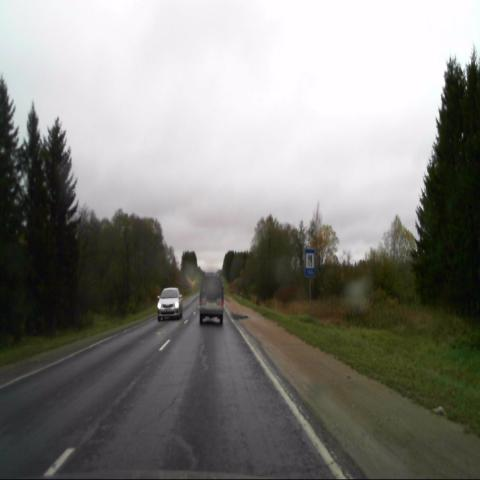7_7: (304, 248, 314, 277)
